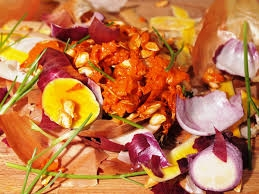kitchen_waste: (1, 108, 72, 184), (168, 80, 252, 137), (179, 135, 254, 194), (38, 71, 106, 134), (22, 44, 93, 95), (118, 129, 176, 179), (205, 34, 259, 85), (44, 10, 113, 44), (99, 73, 143, 118), (86, 15, 142, 48), (140, 37, 169, 59)
